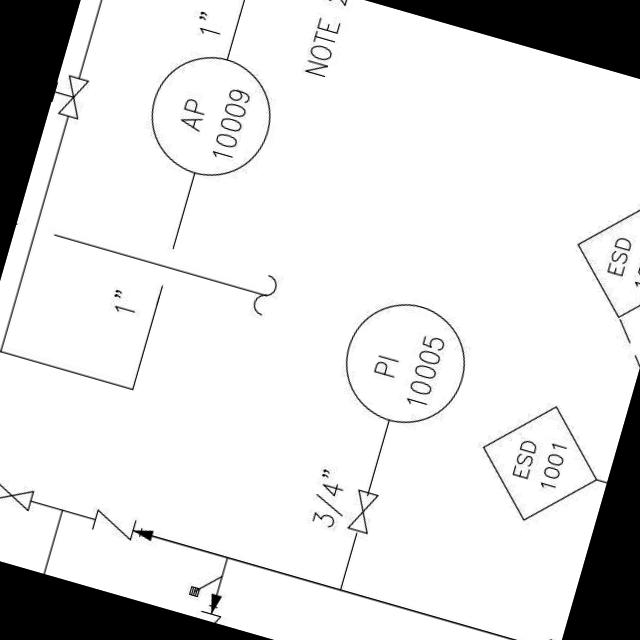GV: (340, 481, 383, 543), (0, 474, 39, 518)
HV: (46, 66, 92, 122)
